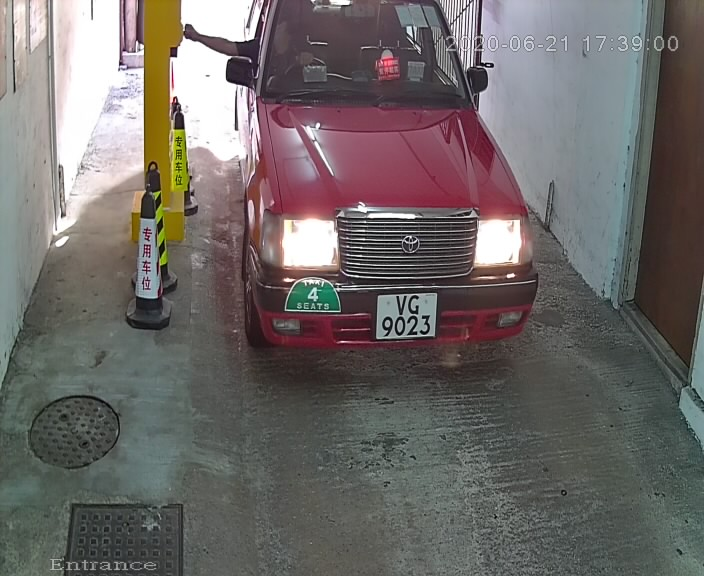taxi: (207, 1, 555, 384)
taxi_mark: (274, 271, 347, 320)
